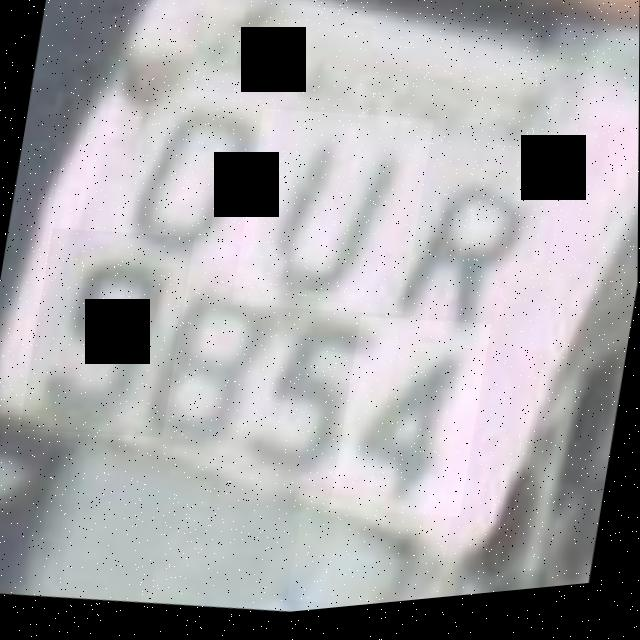4: (330, 314, 492, 536)
5: (220, 291, 403, 507)
7: (287, 501, 453, 618)
9: (20, 219, 196, 452)
O: (107, 79, 278, 288)
R: (378, 147, 543, 372)
U: (232, 101, 434, 336)
